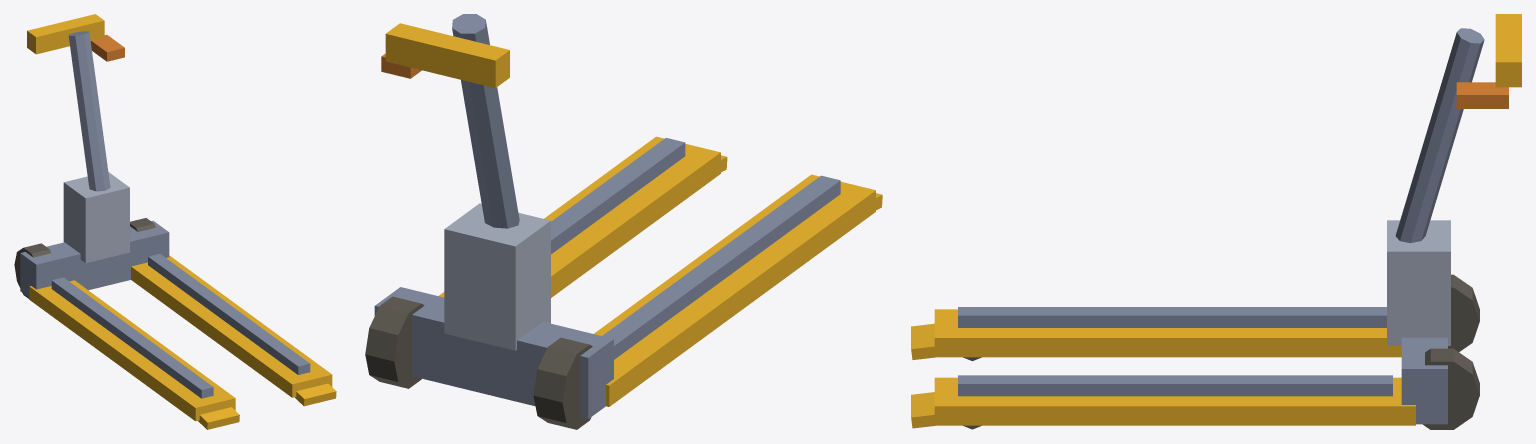
File: pallet_jack.glb
3 views of the same model, side by side, from view 1: azimuth 30°, elevation 25°; view 2: azimuth 150°, elevation 25°; view 3: azimuth 270°, elevation 25° (orthographic). The views are drawn at different scales.
Parts seen in each view (by area): view 1: pallet_jack; view 2: pallet_jack; view 3: pallet_jack.
Part boxes in pixels (x1=…): pallet_jack: x1=14, y1=14, x2=336, y2=429; pallet_jack: x1=365, y1=14, x2=882, y2=429; pallet_jack: x1=911, y1=14, x2=1521, y2=429.
Size of the model in its own units: 0.75 by 1.29 by 2.
